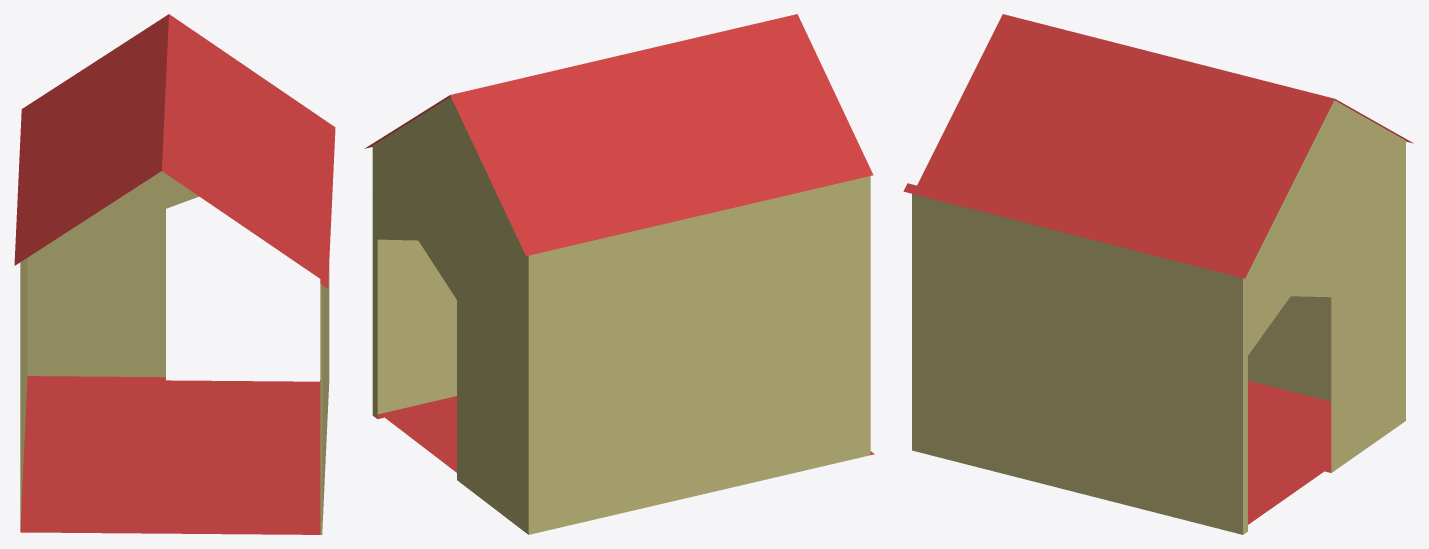
The picture shows the model from 3 angles, left to right: view 1: azimuth 30°, elevation 25°; view 2: azimuth 150°, elevation 25°; view 3: azimuth 270°, elevation 25°; orthographic projection. The views are drawn at different scales.
Visible parts, largest first — view 1: group_3, group_6, group_5, group_4; view 2: group_5, group_3, group_6, group_4; view 3: group_5, group_3, group_6.
Part boxes in pixels (x1,y1,x2,y2): group_3: (14, 14, 335, 288); group_6: (20, 376, 320, 534); group_5: (20, 171, 329, 534); group_4: (15, 17, 332, 285); group_5: (372, 97, 870, 534); group_3: (365, 14, 873, 256); group_6: (377, 396, 874, 472); group_4: (368, 97, 872, 255); group_5: (912, 100, 1405, 534); group_3: (903, 14, 1413, 278); group_6: (1248, 380, 1331, 524).
Bounding box in the file's own units: 19.31 × 20.52 × 16.69.
